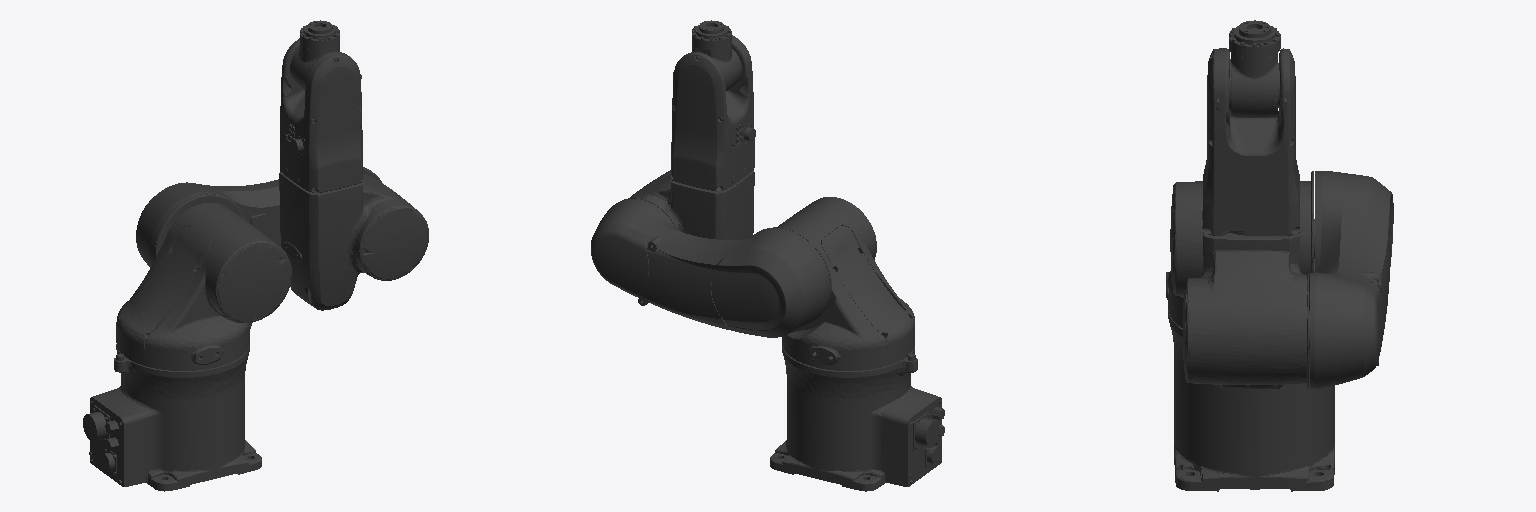
The robot description file, URDF, robot "adept_viper_s650":
<?xml version="1.0" ?>
<!-- =================================================================================== -->
<!-- |    This document was autogenerated by xacro from viper_s650.xacro               | -->
<!-- |    EDITING THIS FILE BY HAND IS NOT RECOMMENDED                                 | -->
<!-- =================================================================================== -->
<robot name="adept_viper_s650" xmlns:xacro="http://www.ros.org/wiki/xacro">
  <!-- link list -->
  <link name="base_link">
    <visual>
      <origin rpy="0 0 0" xyz="0 0 0"/>
      <geometry>
        <mesh filename="package://adept_viper_s650_support/meshes/viper_s650/visual/base_link.stl" scale="0.001 0.001 0.001"/>
      </geometry>
      <material name="grey">
        <color rgba=".30 .30 .30 1"/>
      </material>
    </visual>
    <collision>
      <origin rpy="0 0 0" xyz="0 0 0"/>
      <geometry>
        <mesh filename="package://adept_viper_s650_support/meshes/viper_s650/collision/base_link.stl" scale="0.001 0.001 0.001"/>
      </geometry>
    </collision>
  </link>
  <link name="link_1">
    <visual>
      <origin rpy="0 0 0" xyz="0 0 0"/>
      <geometry>
        <mesh filename="package://adept_viper_s650_support/meshes/viper_s650/visual/link_1.stl" scale="0.001 0.001 0.001"/>
      </geometry>
      <material name="grey"/>
    </visual>
    <collision>
      <origin rpy="0 0 0" xyz="0 0 0"/>
      <geometry>
        <mesh filename="package://adept_viper_s650_support/meshes/viper_s650/collision/link_1.stl" scale="0.001 0.001 0.001"/>
      </geometry>
    </collision>
  </link>
  <link name="link_2">
    <visual>
      <origin rpy="0 0 0" xyz="0 0 0"/>
      <geometry>
        <mesh filename="package://adept_viper_s650_support/meshes/viper_s650/visual/link_2.stl" scale="0.001 0.001 0.001"/>
      </geometry>
      <material name="grey"/>
    </visual>
    <collision>
      <origin rpy="0 0 0" xyz="0 0 0"/>
      <geometry>
        <mesh filename="package://adept_viper_s650_support/meshes/viper_s650/collision/link_2.stl" scale="0.001 0.001 0.001"/>
      </geometry>
    </collision>
  </link>
  <link name="link_3">
    <visual>
      <origin rpy="0 0 0" xyz="0 0 0"/>
      <geometry>
        <mesh filename="package://adept_viper_s650_support/meshes/viper_s650/visual/link_3.stl" scale="0.001 0.001 0.001"/>
      </geometry>
      <material name="grey"/>
      0,00
			
    </visual>
    <collision>
      <origin rpy="0 0 0" xyz="0 0 0"/>
      <geometry>
        <mesh filename="package://adept_viper_s650_support/meshes/viper_s650/collision/link_3.stl" scale="0.001 0.001 0.001"/>
      </geometry>
    </collision>
  </link>
  <link name="link_4">
    <visual>
      <origin rpy="0 0 0" xyz="0 0 0"/>
      <geometry>
        <mesh filename="package://adept_viper_s650_support/meshes/viper_s650/visual/link_4.stl" scale="0.001 0.001 0.001"/>
      </geometry>
      <material name="grey"/>
    </visual>
    <collision>
      <origin rpy="0 0 0" xyz="0 0 0"/>
      <geometry>
        <mesh filename="package://adept_viper_s650_support/meshes/viper_s650/collision/link_4.stl" scale="0.001 0.001 0.001"/>
      </geometry>
    </collision>
  </link>
  <link name="link_5">
    <visual>
      <origin rpy="0 0 0" xyz="0 0 0"/>
      <geometry>
        <mesh filename="package://adept_viper_s650_support/meshes/viper_s650/visual/link_5.stl" scale="0.001 0.001 0.001"/>
      </geometry>
      <material name="grey"/>
    </visual>
    <collision>
      <origin rpy="0 0 0" xyz="0 0 0"/>
      <geometry>
        <mesh filename="package://adept_viper_s650_support/meshes/viper_s650/collision/link_5.stl" scale="0.001 0.001 0.001"/>
      </geometry>
    </collision>
  </link>
  <link name="link_6">
    <visual>
      <origin rpy="0 0 0" xyz="0 0 0"/>
      <geometry>
        <mesh filename="package://adept_viper_s650_support/meshes/viper_s650/visual/link_6.stl" scale="0.001 0.001 0.001"/>
      </geometry>
      <material name="grey"/>
    </visual>
    <collision>
      <origin rpy="0 0 0" xyz="0 0 0"/>
      <geometry>
        <mesh filename="package://adept_viper_s650_support/meshes/viper_s650/collision/link_6.stl" scale="0.001 0.001 0.001"/>
      </geometry>
    </collision>
  </link>
  <link name="tool0"/>
  <!-- end of the link list -->
  <!-- join list -->
  <joint name="joint_1" type="revolute">
    <origin rpy="0 0 0" xyz="0 0 0.203"/>
    <parent link="base_link"/>
    <child link="link_1"/>
    <axis xyz="0 0 1"/>
    <limit effort="0" lower="-2.9671" upper="2.9671" velocity="5.7247"/>
  </joint>
  <joint name="joint_2" type="revolute">
    <origin rpy="0 0 0" xyz="0.075 0 0.132"/>
    <parent link="link_1"/>
    <child link="link_2"/>
    <axis xyz="0 1 0"/>
    <limit effort="0" lower="-3.3161" upper="0.7854" velocity="5.2360"/>
  </joint>
  <joint name="joint_3" type="revolute">
    <origin rpy="0 0 0" xyz="0.270 0 0"/>
    <parent link="link_2"/>
    <child link="link_3"/>
    <axis xyz="0 1 0"/>
    <limit effort="0" lower="-0.5061" upper="4.4680" velocity="6.5450"/>
  </joint>
  <joint name="joint_4" type="revolute">
    <origin rpy="0 0 0" xyz="-0.09 0 0.108"/>
    <parent link="link_3"/>
    <child link="link_4"/>
    <axis xyz="0 0 1"/>
    <limit effort="0" lower="-3.3161" upper="3.3161" velocity="6.5450"/>
  </joint>
  <joint name="joint_5" type="revolute">
    <origin rpy="0 0 0" xyz="0 0 0.187"/>
    <parent link="link_4"/>
    <child link="link_5"/>
    <axis xyz="0 1 0"/>
    <limit effort="0" lower="-2.0944" upper="2.0944" velocity="6.54"/>
  </joint>
  <joint name="joint_6" type="revolute">
    <origin rpy="0 0 0" xyz="0 0 0.080"/>
    <parent link="link_5"/>
    <child link="link_6"/>
    <axis xyz="0 0 1"/>
    <limit effort="0" lower="-6.2832" upper="6.2832" velocity="10.4720"/>
  </joint>
  <joint name="joint_6-tool0" type="fixed">
    <origin rpy="0 0 0" xyz="0 0 0.0"/>
    <parent link="link_6"/>
    <child link="tool0"/>
    <origin rpy="0 1.57079632679 0" xyz="0 0 0"/>
  </joint>
  <!-- end of the joint list -->
  <!-- ROS base_link to Adept World Coordinates transform -->
  <link name="base"/>
  <joint name="base_link-base" type="fixed">
    <origin rpy="0 0 0" xyz="0 0 0"/>
    <parent link="base_link"/>
    <child link="base"/>
  </joint>
</robot>

--- Facts derived from the render (not from the file) ---
3 views of the same robot in one strip: view 1: azimuth 30°, elevation 25°; view 2: azimuth 150°, elevation 25°; view 3: azimuth 270°, elevation 25° (orthographic).
Model adept_viper_s650 with 9 links and 8 joints (6 revolute, 2 fixed), rooted at base_link, posed all joints at 0.
Visible links, largest first — view 1: link_1, base_link, link_3, link_4, link_2, link_6, link_5; view 2: link_2, base_link, link_1, link_4, link_3, link_6, link_5; view 3: link_3, base_link, link_2, link_4, link_1, link_5, link_6.
Link boxes in pixels (box(x1,y1,x2,y2)): link_1: box(116, 194, 291, 370); base_link: box(83, 344, 261, 491); link_3: box(279, 168, 428, 310); link_4: box(280, 38, 362, 192); link_2: box(136, 167, 370, 267); link_6: box(300, 20, 339, 49); link_5: box(290, 43, 339, 90); link_2: box(591, 199, 830, 337); base_link: box(770, 346, 944, 491); link_1: box(763, 197, 914, 370); link_4: box(671, 35, 755, 191); link_3: box(624, 170, 754, 239); link_6: box(692, 20, 731, 49); link_5: box(692, 43, 741, 90); link_3: box(1183, 225, 1308, 388); base_link: box(1168, 311, 1334, 491); link_2: box(1309, 171, 1393, 388); link_4: box(1202, 48, 1299, 235); link_1: box(1166, 171, 1314, 327); link_5: box(1231, 53, 1277, 117); link_6: box(1229, 20, 1280, 58).
Size in the robot's own frame: 0.5833 by 0.283 by 0.71 metres.
7 mesh visuals loaded from 7 distinct referenced files (7 binary STL).